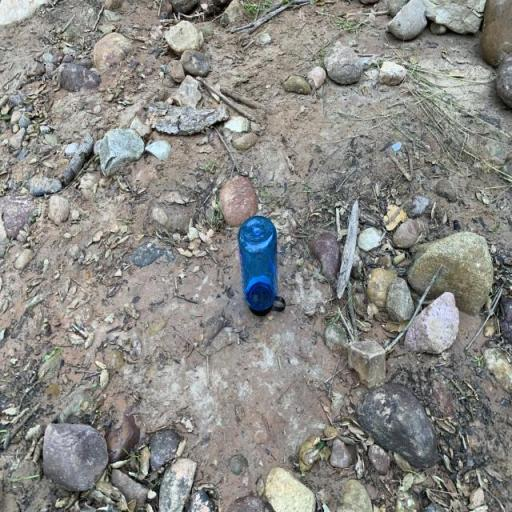bottle: (238, 215, 286, 316)
